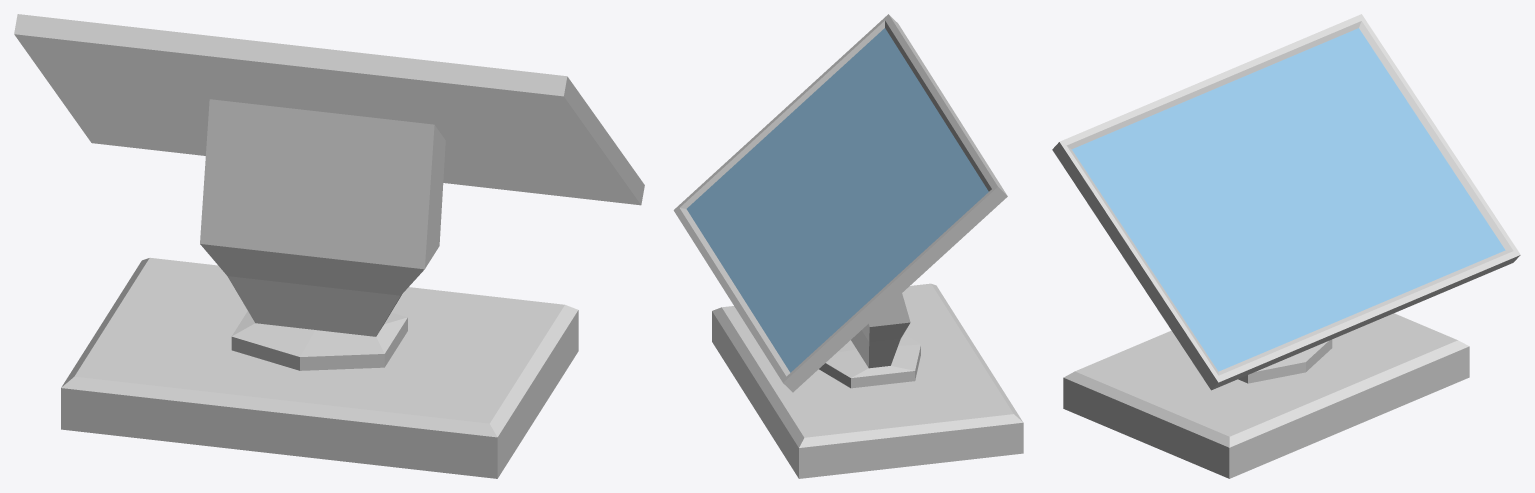
Rendered from iPadRegister.fbx.
The picture shows the model from 3 angles, left to right: view 1: azimuth 30°, elevation 25°; view 2: azimuth 150°, elevation 25°; view 3: azimuth 270°, elevation 25°; orthographic projection. The views are drawn at different scales.
Visible parts, largest first — view 1: iPad Register.001; view 2: iPad Register.001; view 3: iPad Register.001.
Boxes of the visible parts, x1,y1,x2,y2 form: iPad Register.001: [14, 14, 644, 478]; iPad Register.001: [673, 14, 1023, 478]; iPad Register.001: [1052, 14, 1520, 478].
Bounding box in the file's own units: 200 × 137 × 200.
